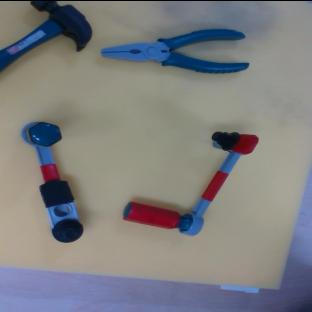non_pass: (20, 116, 86, 247)
pass: (119, 107, 277, 262)
